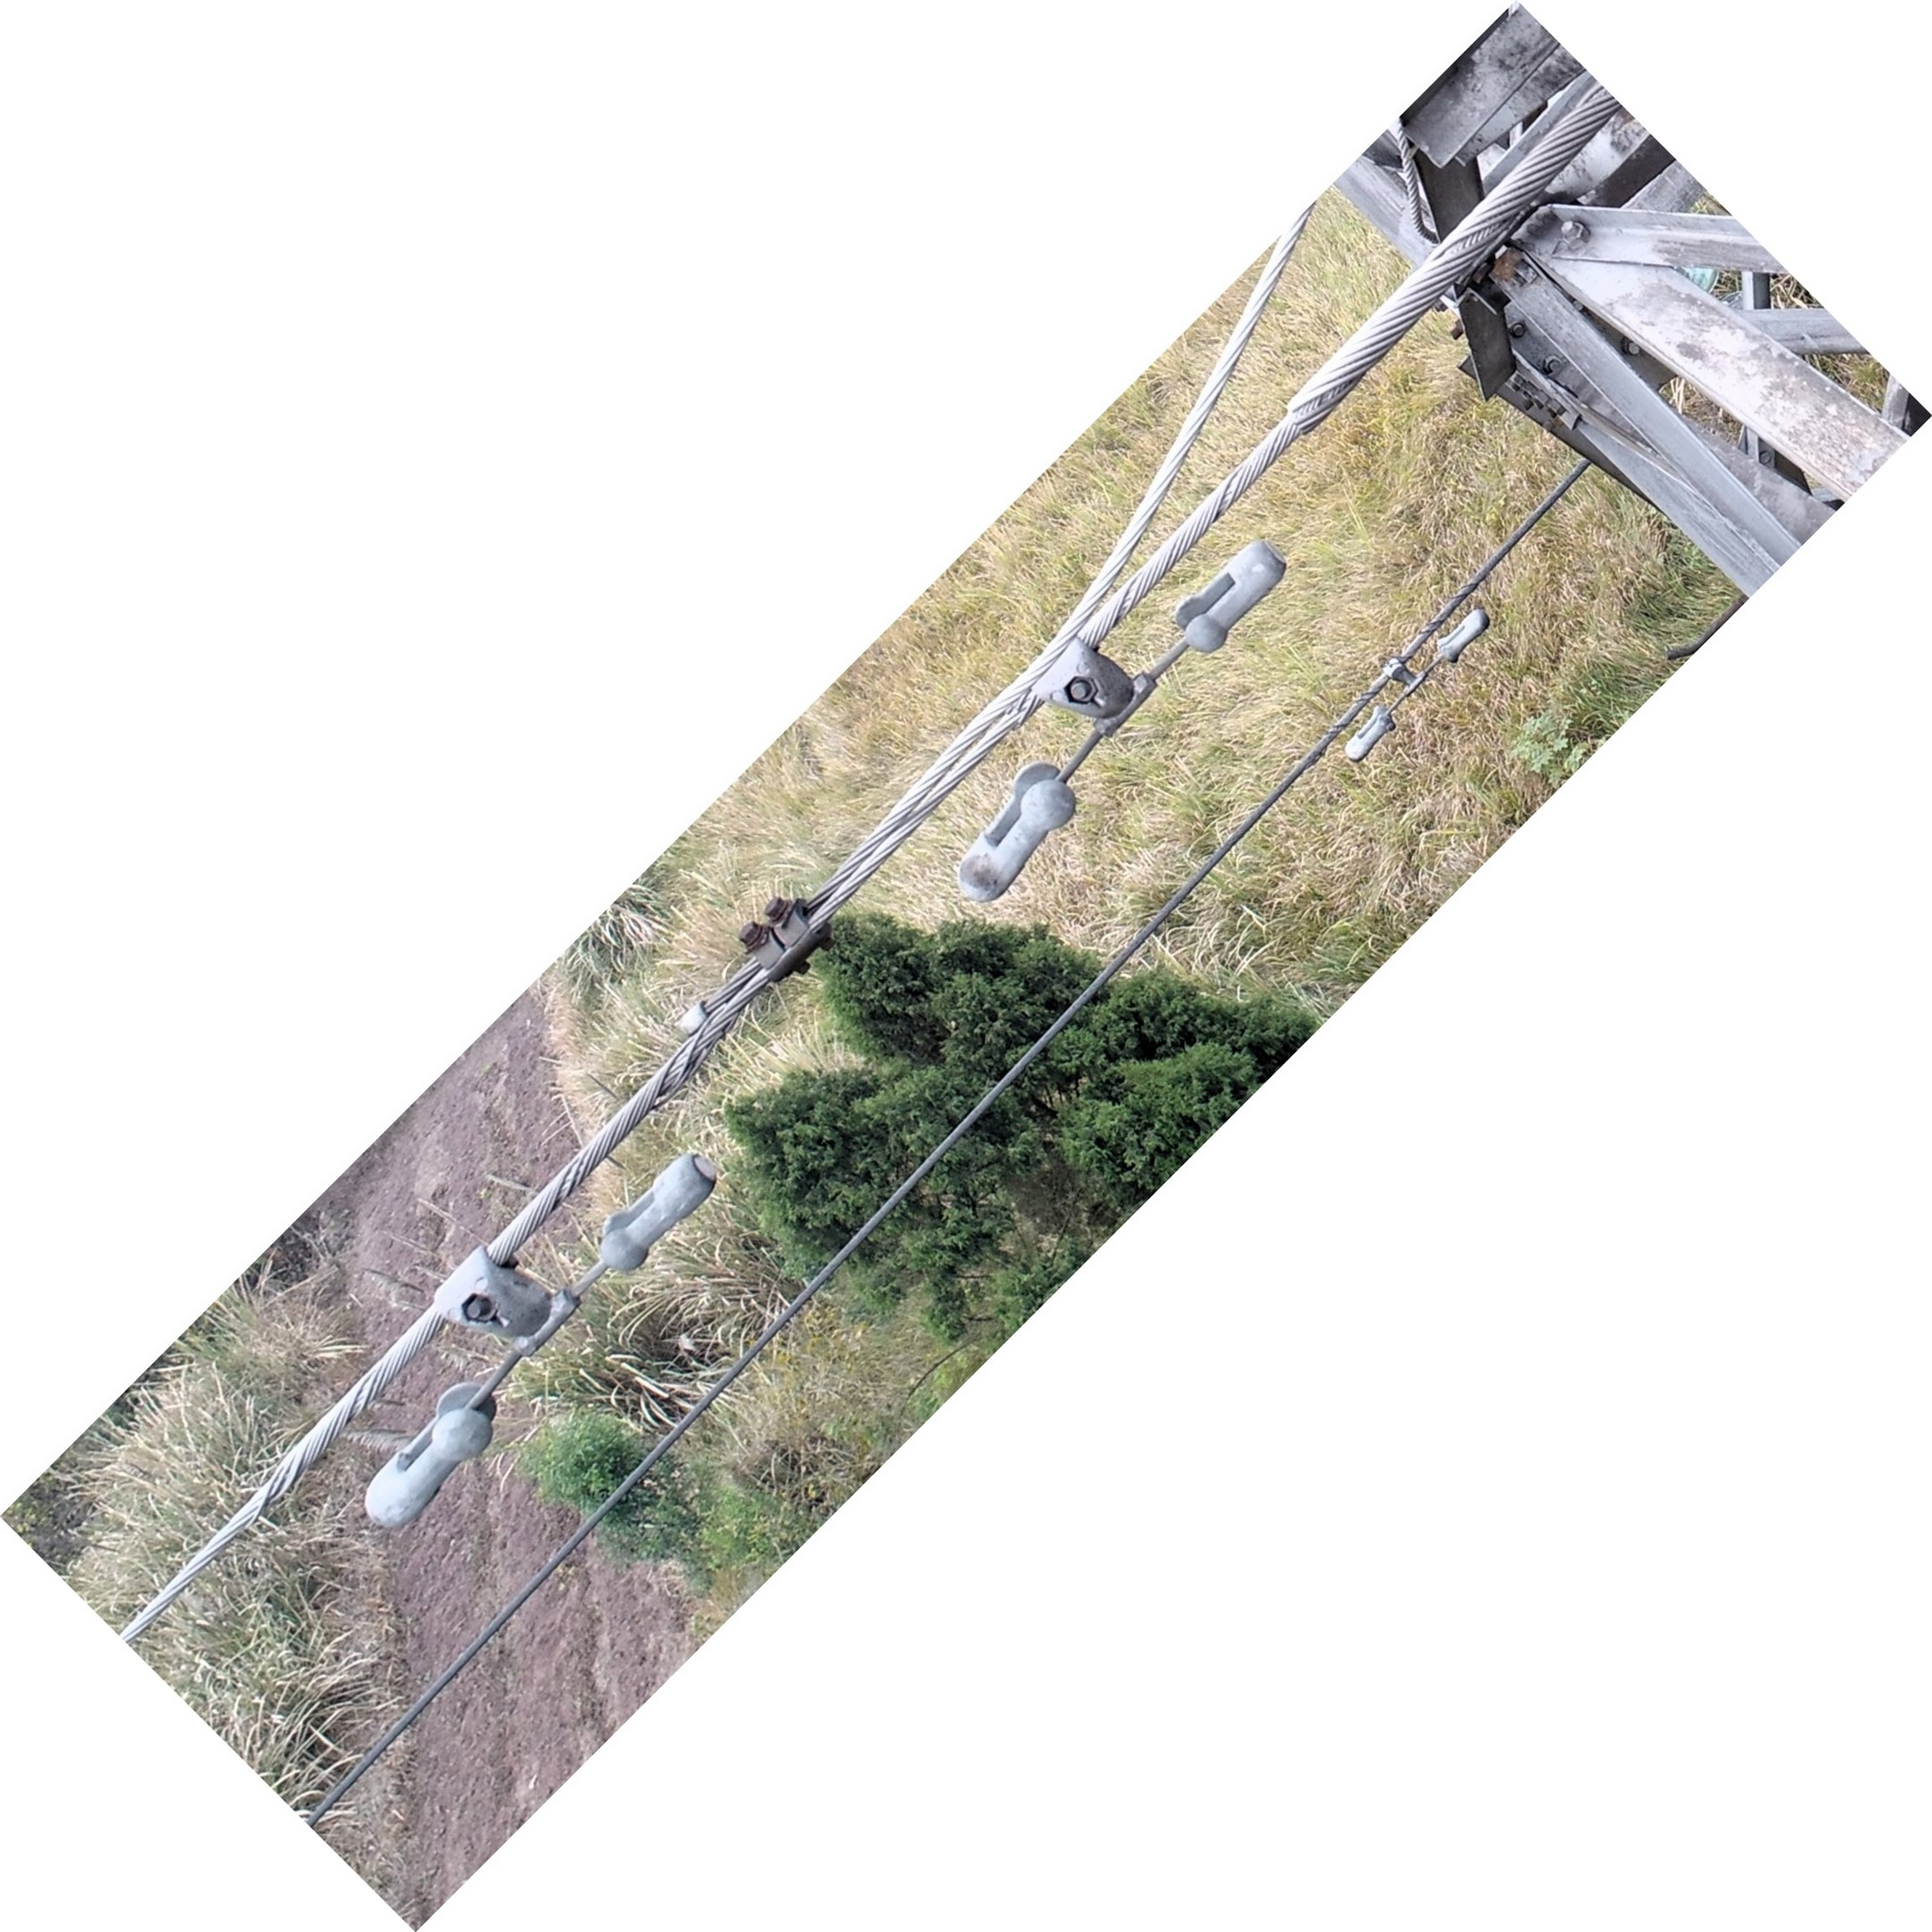Shockproof hammer: (324, 1125, 754, 1564), (943, 515, 1325, 920)
